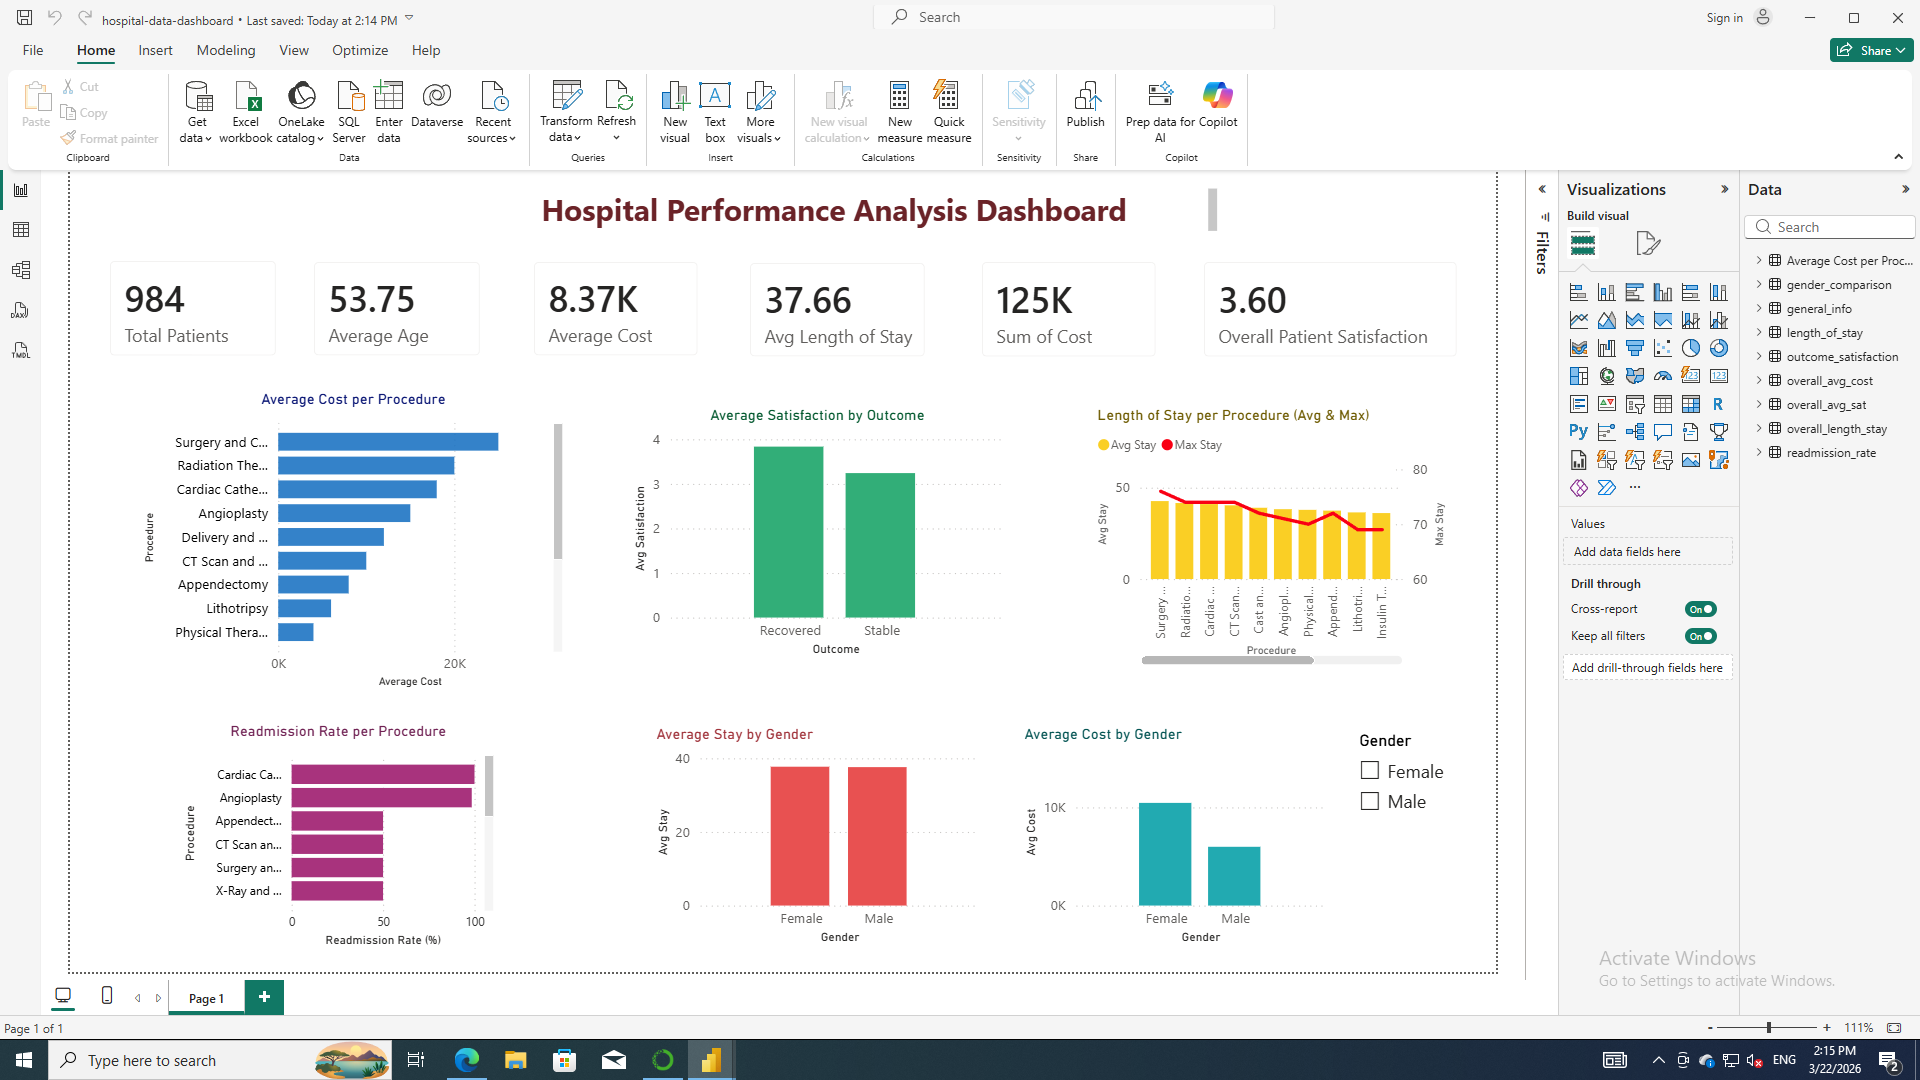

The dashboard page shown, as its layout file describes it:
{"tool":"powerbi","page":{"name":"Page 1","canvas":[1280,720],"ordinal":0},"visuals":[{"type":"clusteredBarChart","title":"Average Cost per Procedure","fields":{"Category":["procedure_cost.Procedure"],"Y":["Avg(procedure_cost.avg_cost)"]},"box":[61.9,198.4,385.1,271.1],"z":0},{"type":"cardVisual","fields":{"Data":["Sum(Average Cost per Procedure.Cost)"]},"box":[801.7,65.5,190.3,119.4],"z":1000},{"type":"cardVisual","fields":{"Data":["Avg(general_info.avg_age)"]},"box":[202,65.5,183.1,118.5],"z":2000},{"type":"cardVisual","fields":{"Data":["Sum(general_info.total_patients)"]},"box":[18.9,64.6,183.1,119.4],"z":3000},{"type":"cardVisual","fields":{"Data":["Sum(overall_avg_cost.overall_avg_cost)"]},"box":[399.5,65.5,181.3,118.5],"z":4000},{"type":"lineClusteredColumnComboChart","title":"Length of Stay per Procedure (Avg & Max)","fields":{"Category":["length_of_stay.Procedure"],"Y":["Sum(length_of_stay.avg_stay)"],"Y2":["Sum(length_of_stay.max_stay)"]},"box":[917.5,212.8,322.3,236.1],"z":5000},{"type":"cardVisual","fields":{"Data":["Sum(overall_length_stay.overall_length_stay)"]},"box":[593.4,66.4,191.2,118.5],"z":6000},{"type":"clusteredBarChart","title":"Readmission Rate per Procedure","fields":{"Category":["readmission_rate.Procedure"],"Y":["Sum(readmission_rate.Readmission Rate (%))"]},"box":[97,496.5,288.2,205.6],"z":7000},{"type":"columnChart","title":"Average Satisfaction by Outcome","fields":{"Category":["outcome_satisfaction.Outcome"],"Y":["Sum(outcome_satisfaction.avg_satisfaction)"]},"box":[500.9,212.8,340.2,228],"z":8000},{"type":"cardVisual","fields":{"Data":["Sum(overall_avg_sat.overall_avg_satisfaction)"]},"box":[1001,65.5,261.2,119.4],"z":9000},{"type":"clusteredColumnChart","title":"Average Stay by Gender","fields":{"Category":["gender_comparison.Gender"],"Y":["Sum(gender_comparison.avg_stay)"]},"box":[521.6,499.2,299.9,200.2],"z":10000},{"type":"clusteredColumnChart","title":"Average Cost by Gender","fields":{"Category":["gender_comparison.Gender"],"Y":["Sum(gender_comparison.avg_cost)"]},"box":[852,499.2,280.1,200.2],"z":11000},{"type":"listSlicer","fields":{"Values":["gender_comparison.Gender"]},"box":[1152.7,499.2,127.5,197.5],"z":12000},{"type":"textbox","box":[343.8,11.7,691.3,54.8],"z":13000}]}

Visuals, with their boxes on the page's 1280x720 design canvas (x1, y1, x2, y2). These are canvas units, not pixel positions in the 1920x1080 screenshot, which may show the page scaled, cropped or inside an application window:
"Average Cost per Procedure" clusteredBarChart: <bbox>62, 198, 447, 470</bbox>
cardVisual - Sum(Average Cost per Procedure.Cost): <bbox>802, 66, 992, 185</bbox>
cardVisual - Avg(general_info.avg_age): <bbox>202, 66, 385, 184</bbox>
cardVisual - Sum(general_info.total_patients): <bbox>19, 65, 202, 184</bbox>
cardVisual - Sum(overall_avg_cost.overall_avg_cost): <bbox>400, 66, 581, 184</bbox>
"Length of Stay per Procedure (Avg & Max)" lineClusteredColumnComboChart: <bbox>918, 213, 1240, 449</bbox>
cardVisual - Sum(overall_length_stay.overall_length_stay): <bbox>593, 66, 785, 185</bbox>
"Readmission Rate per Procedure" clusteredBarChart: <bbox>97, 496, 385, 702</bbox>
"Average Satisfaction by Outcome" columnChart: <bbox>501, 213, 841, 441</bbox>
cardVisual - Sum(overall_avg_sat.overall_avg_satisfaction): <bbox>1001, 66, 1262, 185</bbox>
"Average Stay by Gender" clusteredColumnChart: <bbox>522, 499, 822, 699</bbox>
"Average Cost by Gender" clusteredColumnChart: <bbox>852, 499, 1132, 699</bbox>
listSlicer - gender_comparison.Gender: <bbox>1153, 499, 1280, 697</bbox>
textbox: <bbox>344, 12, 1035, 66</bbox>
